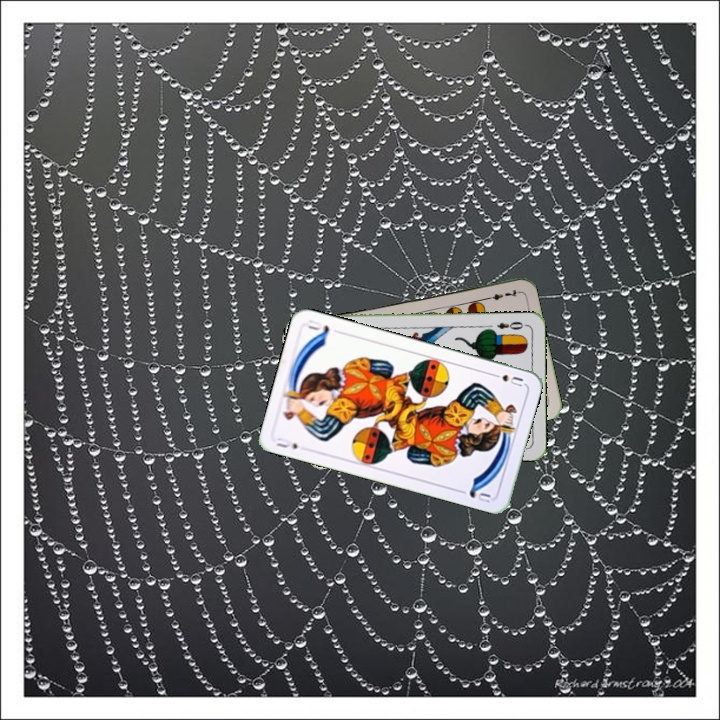E7: (481, 285, 521, 303)
EO: (493, 317, 529, 332)
SU: (487, 369, 526, 389), (272, 433, 300, 452)
